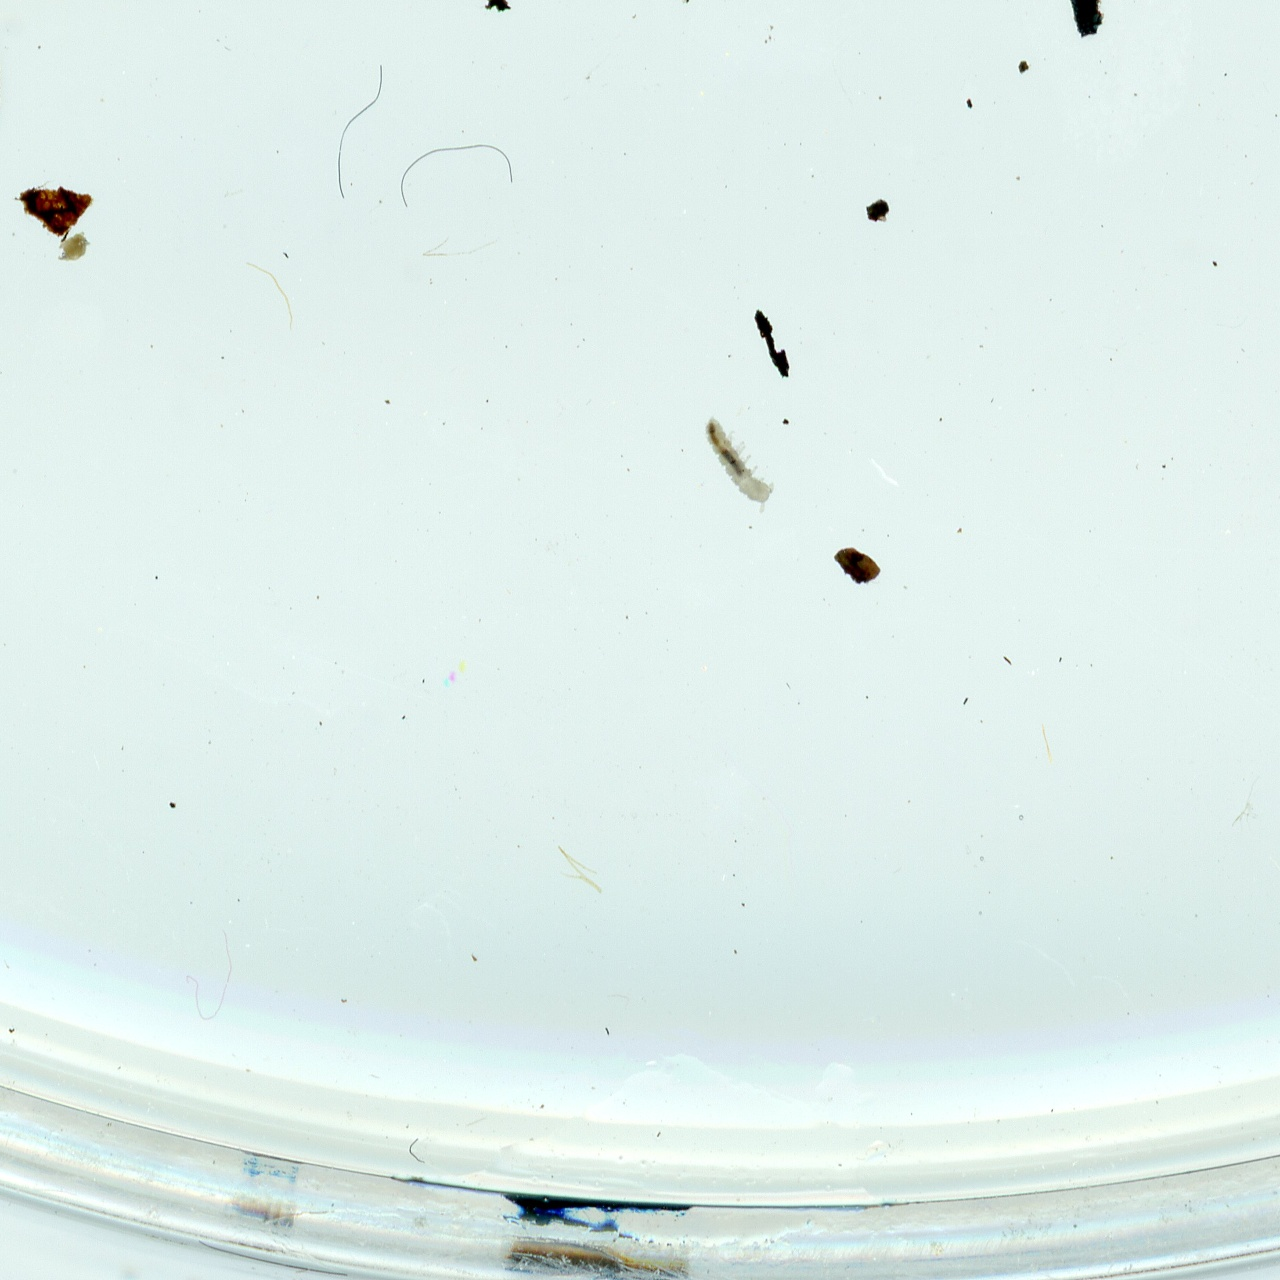arthropod: (683, 399, 791, 525)
